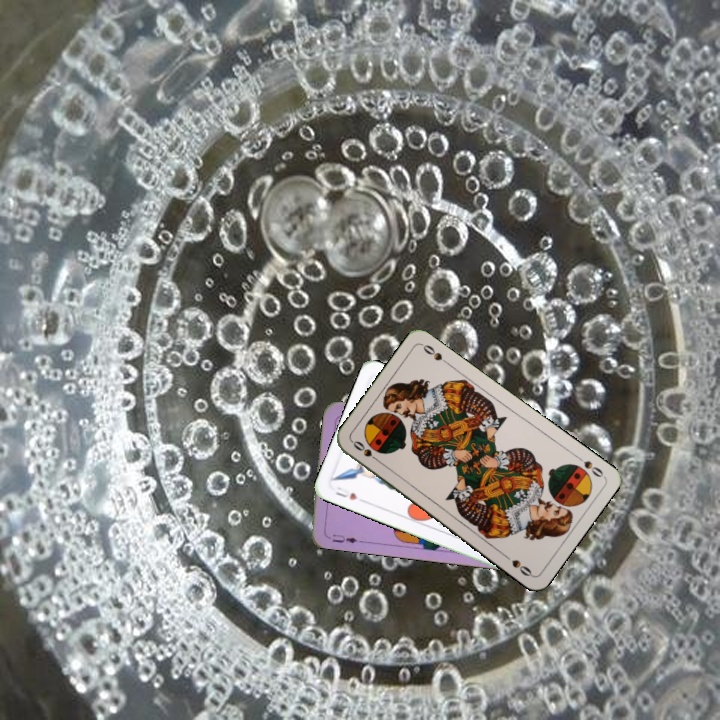EU: (322, 530, 363, 546)
HU: (331, 483, 360, 503)
SO: (348, 436, 384, 466), (572, 451, 606, 480)
